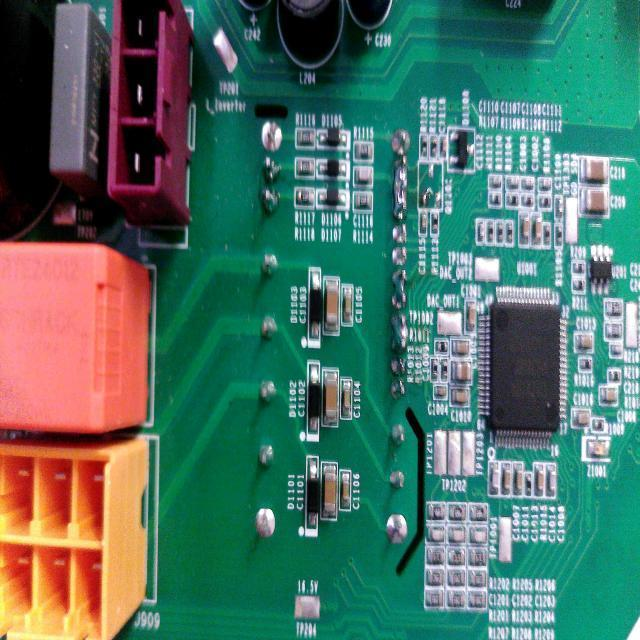Soldering shorted: (392, 155, 408, 224), (388, 264, 409, 314), (386, 315, 409, 355)
